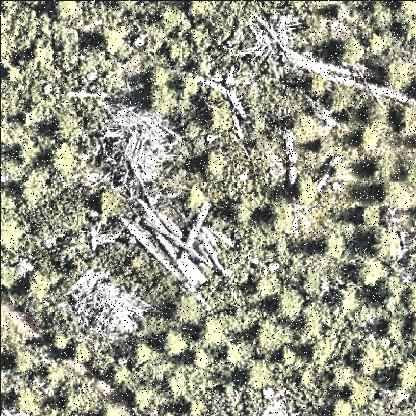tree-top: (348, 359, 389, 407), (350, 341, 391, 381), (260, 196, 296, 235), (379, 57, 416, 94), (252, 322, 290, 358), (144, 80, 180, 118), (291, 115, 327, 153), (171, 294, 208, 330), (371, 228, 405, 267), (200, 147, 234, 184), (355, 254, 390, 289), (202, 102, 236, 138), (197, 317, 231, 353), (346, 376, 379, 412), (350, 124, 388, 155), (8, 348, 42, 382), (51, 110, 85, 144), (274, 290, 306, 326), (94, 187, 126, 223), (330, 37, 366, 69), (244, 359, 277, 393), (48, 142, 80, 177), (9, 385, 45, 416), (156, 5, 188, 38), (28, 41, 59, 75), (159, 330, 191, 362), (375, 152, 407, 184), (292, 175, 322, 209), (64, 389, 100, 416), (366, 4, 396, 36), (101, 28, 133, 58), (20, 270, 49, 302), (171, 2, 204, 30), (1, 188, 19, 239), (394, 101, 416, 141), (13, 139, 41, 169), (133, 385, 163, 413), (166, 38, 194, 68), (48, 1, 85, 23), (224, 341, 252, 370), (320, 232, 348, 261), (358, 202, 386, 231), (394, 361, 416, 397), (186, 1, 214, 25), (190, 349, 215, 375), (1, 266, 22, 296), (73, 344, 95, 368), (99, 402, 135, 416), (328, 399, 357, 416)
